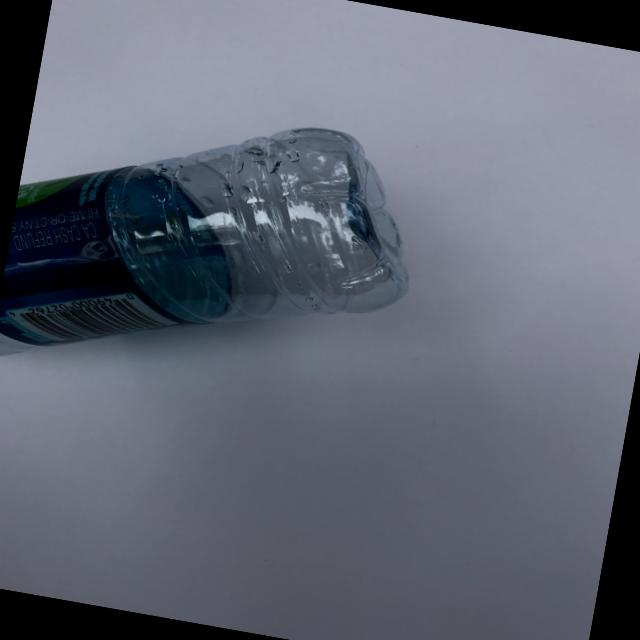Plastic: (0, 56, 449, 439)
